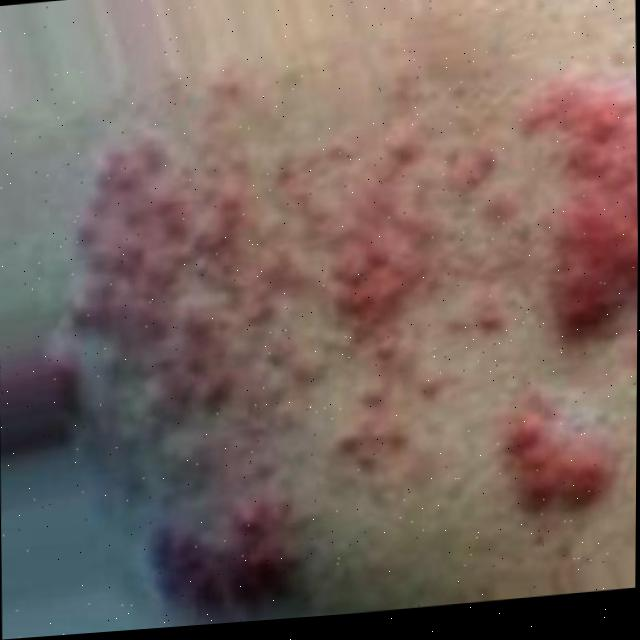Shingles: (60, 98, 498, 617), (542, 77, 639, 328), (498, 403, 620, 538)
